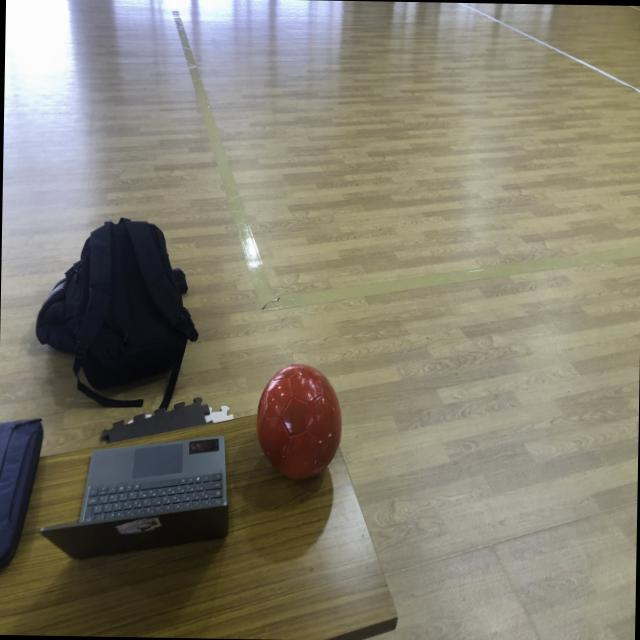red_ball: (255, 362, 343, 487)
